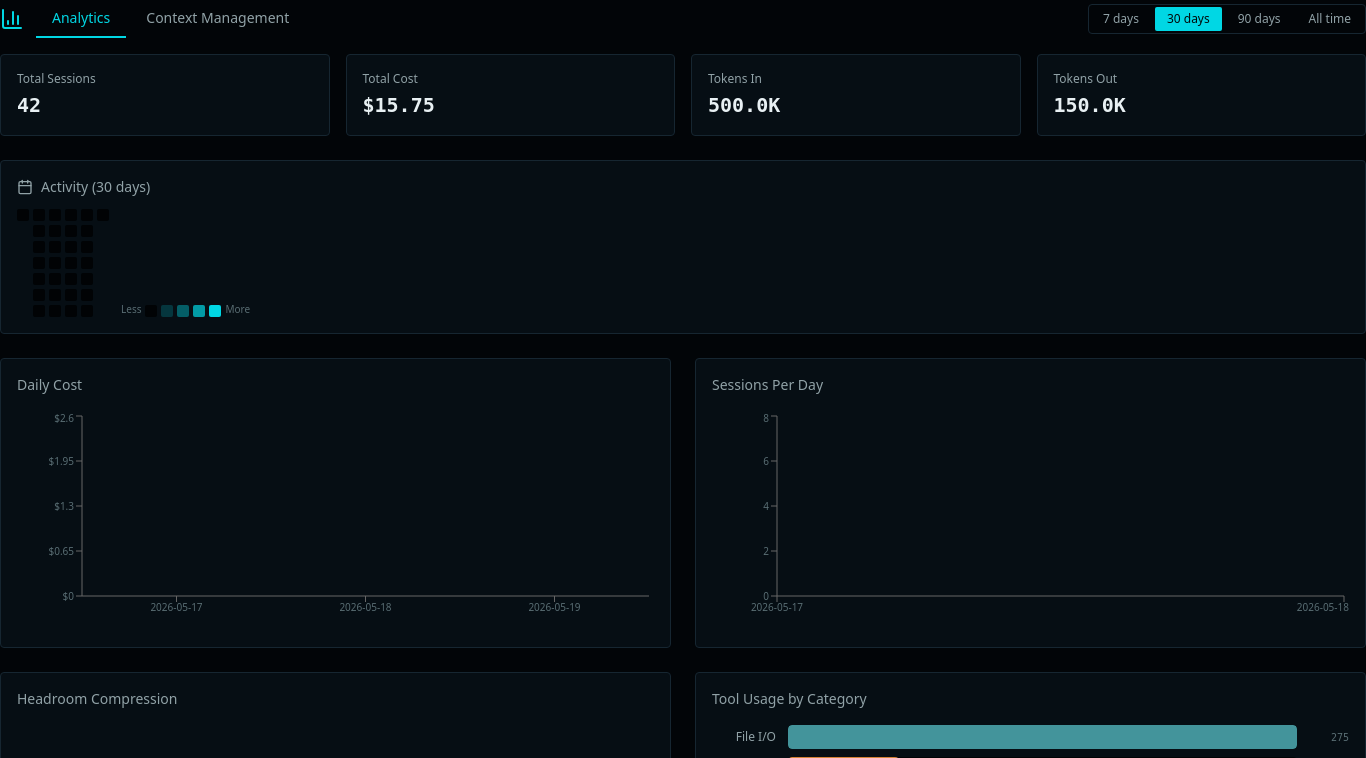
it: AnalyticsPage — Phase 1: Tab Infrastructure › clicking back to "Analytics" tab restores analytics content
Expected: the text "Total Sessions" is shown, 17,70 -> 96,87
# Switch to Context Management
Click the button "Context Management" at {"x": 218, "y": 19}, box 130,0 -> 305,38
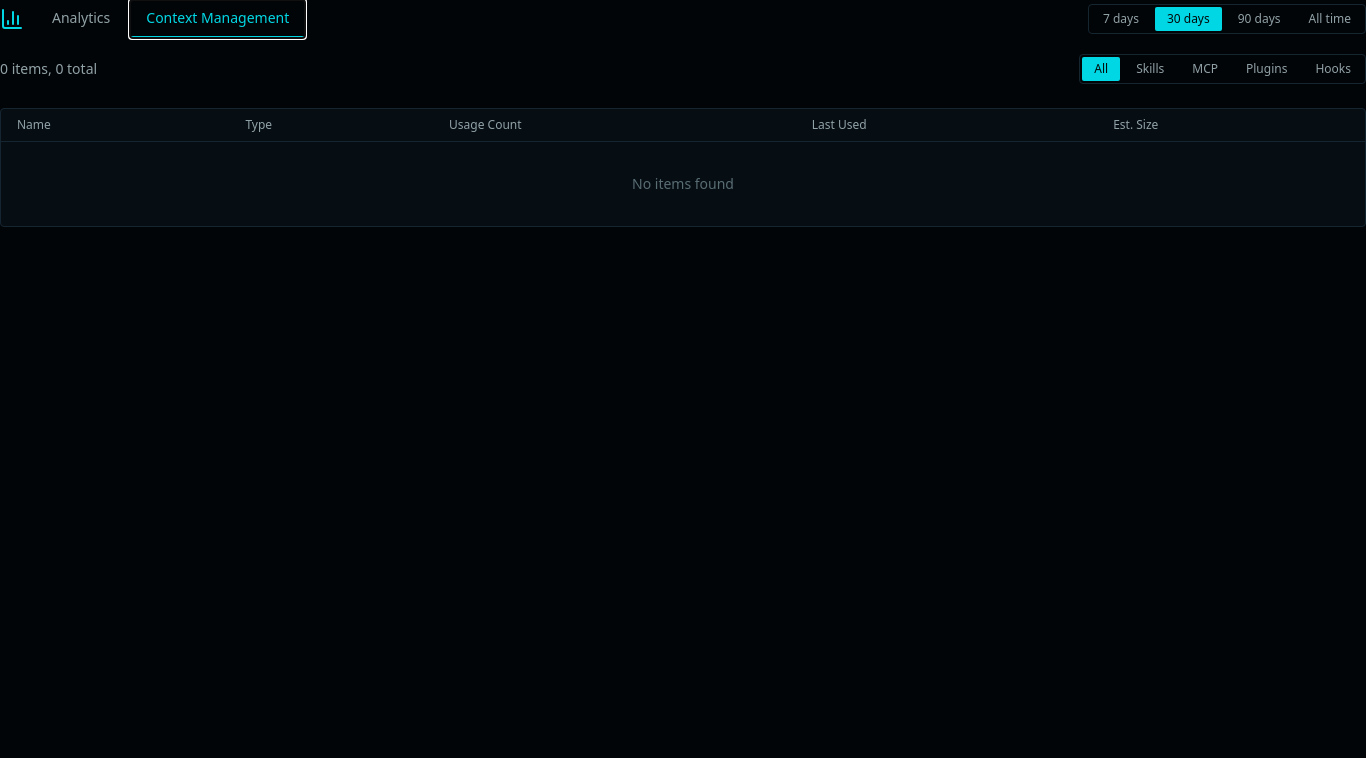
Expected: the text "Total Sessions" is gone
# Switch back to Analytics
Click the button "Analytics" at {"x": 81, "y": 19}, box 36,0 -> 126,38
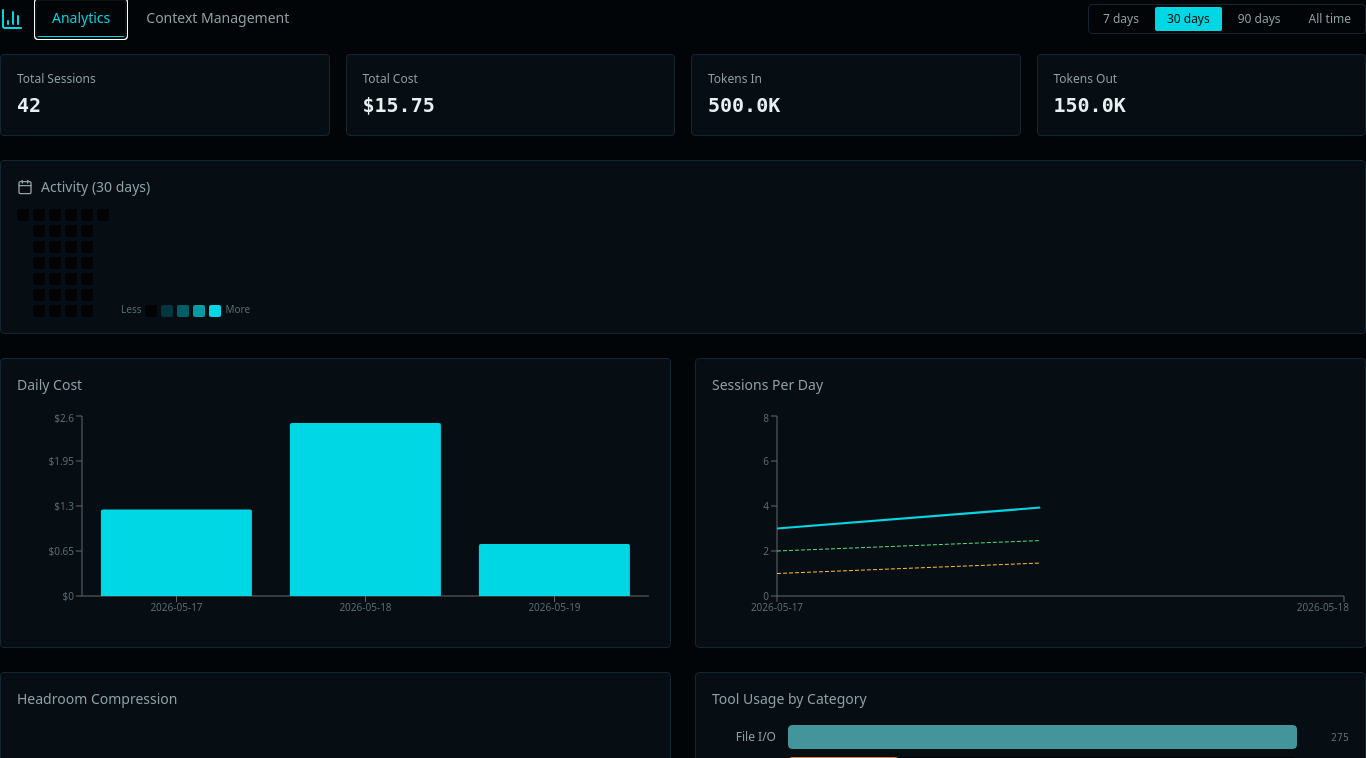
Expected: the text "Total Sessions" is shown, 17,70 -> 96,87
Expected: the text "Total Cost" is shown, 362,70 -> 418,87
